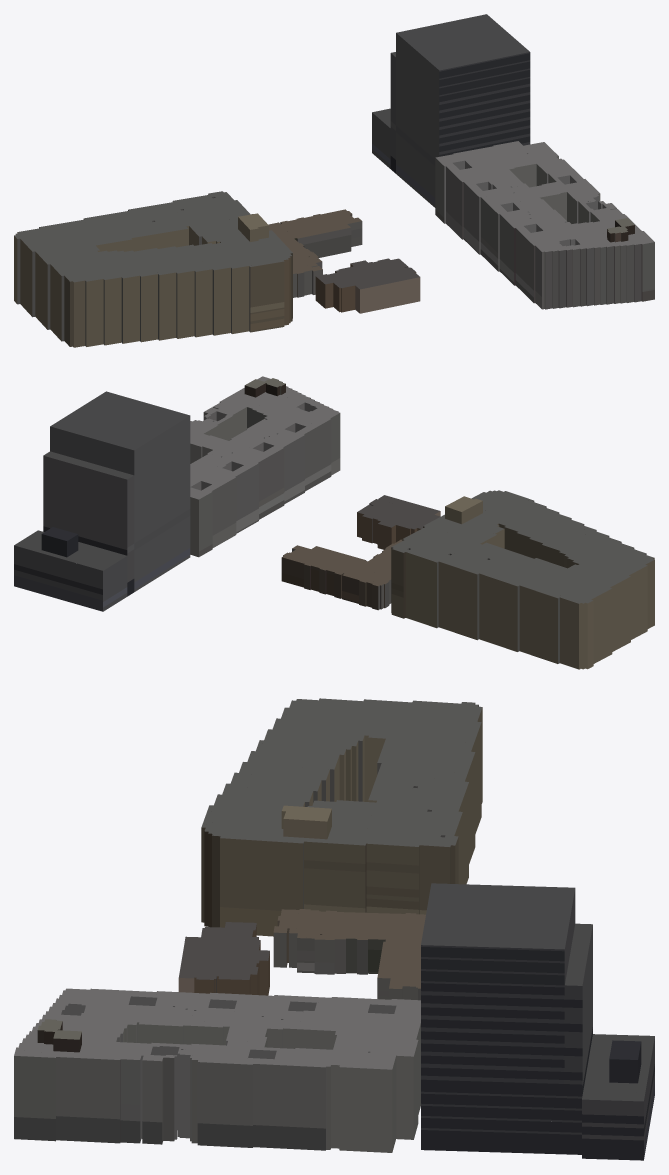
The model's file is t_-3_1.far.glb.
The picture shows the model from 3 angles, top to bottom: view 1: azimuth 30°, elevation 25°; view 2: azimuth 150°, elevation 25°; view 3: azimuth 270°, elevation 25°; orthographic projection. The views are drawn at different scales.
Visible parts, largest first — view 1: opaque; view 2: opaque; view 3: opaque.
Boxes of the visible parts, box(x1,y1,x2,y2) form: opaque: box(14, 14, 654, 347); opaque: box(14, 376, 654, 669); opaque: box(14, 698, 654, 1160).
Size of the model in its own units: 196 by 50.94 by 144.
Materials: 1 (1 with a texture image).
